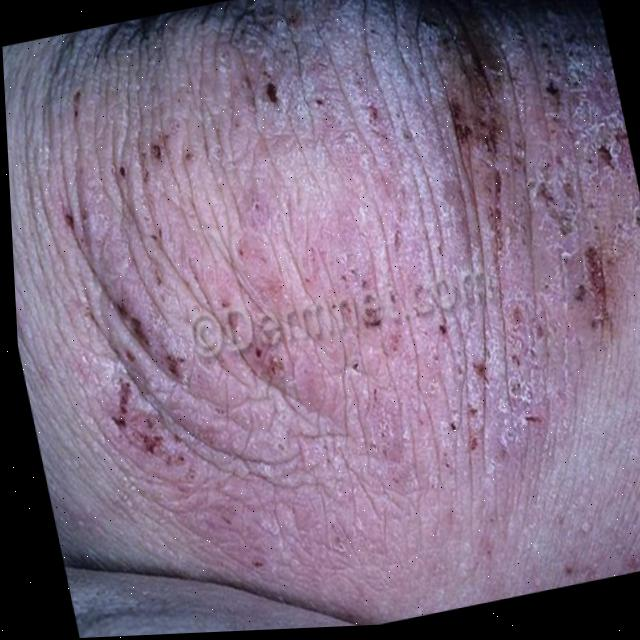Eczema: (34, 0, 640, 519)
